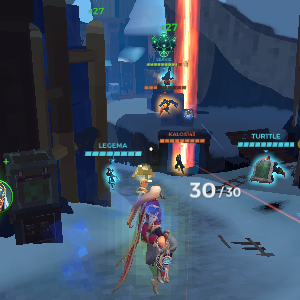model: (170, 148, 189, 177), (158, 95, 179, 119)
